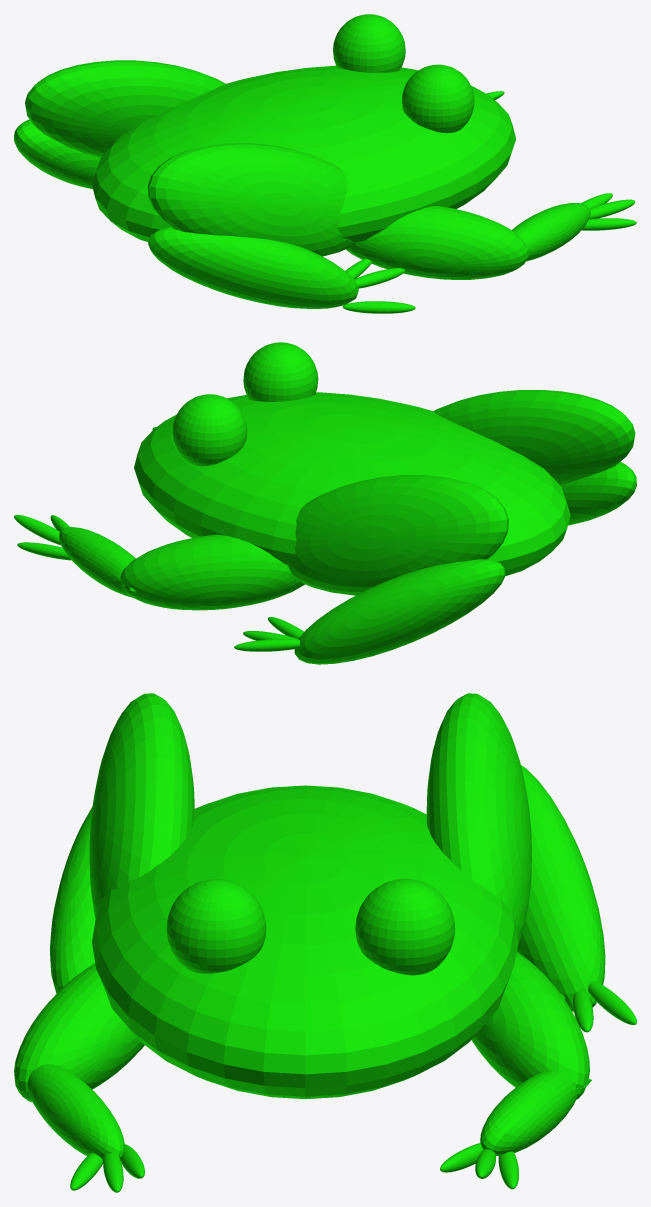
Rendered from frong.fbx.
3 views of the same model, one above another, from view 1: azimuth 30°, elevation 25°; view 2: azimuth 150°, elevation 25°; view 3: azimuth 270°, elevation 25° (orthographic). The views are drawn at different scales.
Visible parts, largest first — view 1: Sphere, Sphere.008, Sphere.007, Sphere.006, Sphere.003, Sphere.002, Sphere.001, Sphere.005, Sphere.010, Sphere.012, Sphere.013, Sphere.019 (+1 smaller); view 2: Sphere, Sphere.007, Sphere.005, Sphere.008, Sphere.004, Sphere.001, Sphere.002, Sphere.006, Sphere.009, Sphere.022, Sphere.015, Sphere.011; view 3: Sphere, Sphere.007, Sphere.008, Sphere.005, Sphere.004, Sphere.003, Sphere.001, Sphere.002, Sphere.010, Sphere.006, Sphere.009, Sphere.022 (+1 smaller).
Boxes of the visible parts, bbox=[...] form: Sphere: bbox=[92, 65, 515, 243]; Sphere.008: bbox=[147, 143, 355, 256]; Sphere.007: bbox=[25, 60, 225, 157]; Sphere.006: bbox=[148, 226, 358, 308]; Sphere.003: bbox=[346, 206, 529, 279]; Sphere.002: bbox=[402, 64, 474, 133]; Sphere.001: bbox=[333, 14, 405, 72]; Sphere.005: bbox=[14, 119, 100, 189]; Sphere.010: bbox=[512, 203, 590, 261]; Sphere.012: bbox=[342, 301, 415, 313]; Sphere.013: bbox=[354, 268, 405, 288]; Sphere.019: bbox=[582, 218, 636, 230]; Sphere: bbox=[134, 392, 570, 576]; Sphere.007: bbox=[288, 475, 508, 595]; Sphere.005: bbox=[294, 559, 505, 664]; Sphere.008: bbox=[433, 390, 635, 485]; Sphere.004: bbox=[120, 534, 304, 610]; Sphere.001: bbox=[172, 394, 247, 466]; Sphere.002: bbox=[243, 342, 318, 401]; Sphere.006: bbox=[560, 462, 636, 525]; Sphere.009: bbox=[59, 527, 135, 597]; Sphere.022: bbox=[234, 639, 299, 651]; Sphere.015: bbox=[14, 515, 60, 545]; Sphere.011: bbox=[17, 542, 71, 560]; Sphere: bbox=[92, 785, 518, 1099]; Sphere.007: bbox=[426, 693, 531, 944]; Sphere.008: bbox=[89, 693, 194, 918]; Sphere.005: bbox=[517, 765, 605, 1011]; Sphere.004: bbox=[471, 952, 589, 1099]; Sphere.003: bbox=[14, 963, 144, 1102]; Sphere.001: bbox=[355, 878, 455, 975]; Sphere.002: bbox=[166, 878, 266, 973]; Sphere.010: bbox=[27, 1064, 124, 1159]; Sphere.006: bbox=[49, 806, 95, 993]; Sphere.009: bbox=[480, 1070, 591, 1155]; Sphere.022: bbox=[588, 981, 636, 1024].
Size of the model in its own units: 1527 by 519 by 1246.
